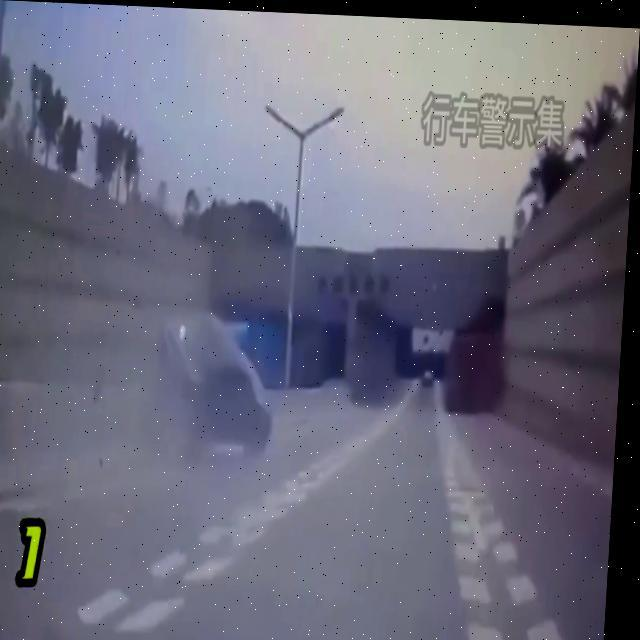single accident: (113, 212, 308, 483)
